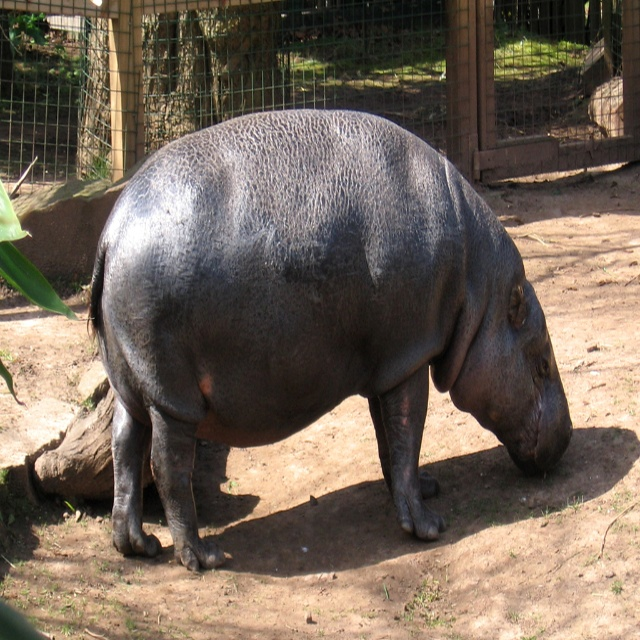Hippopotamus: (88, 107, 573, 577)
